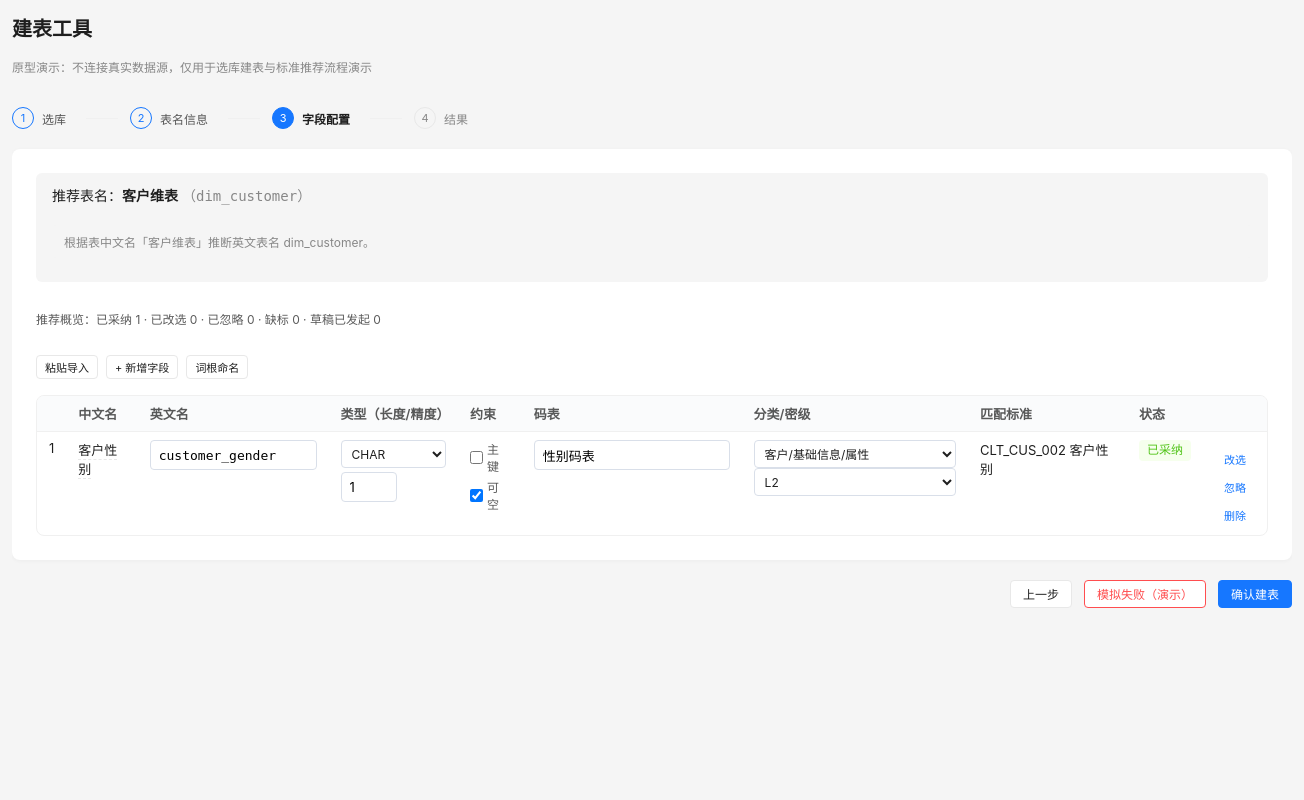
Test: TableBuilderPage step 3 recommend confirmation › clears standard-derived attributes when ignoring a matched field
The width and height of the screenshot is (1304, 800).
Expected: the field showing "性别码表" is shown, [534,440,730,470]
Expected: the dropdown showing "CHAR" is shown, [341,440,446,468]
Click the button "忽略" at coordinates (1235, 487), box [1215,475,1255,499]
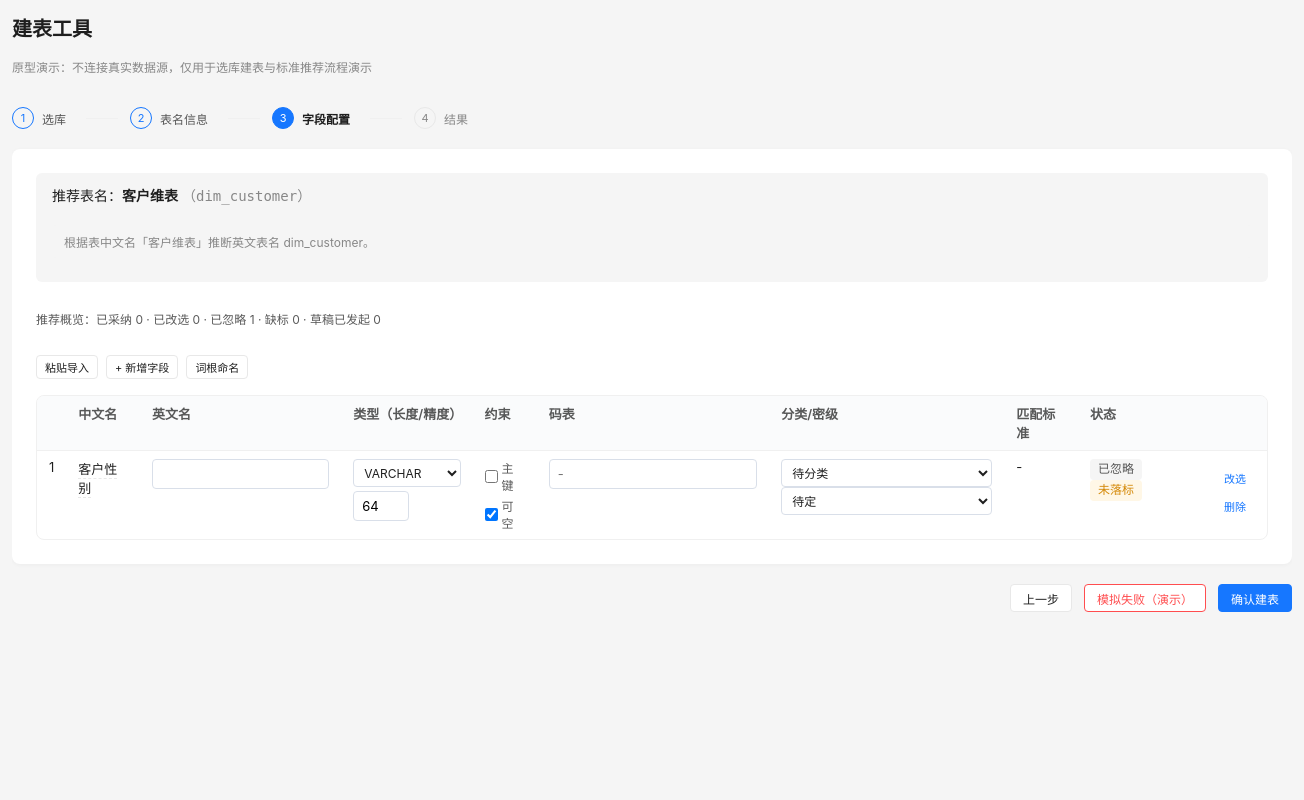
Expected: the text "已忽略" is shown, [1090,459,1142,480]
Expected: the text "未落标" is shown, [1090,480,1142,501]
Expected: the dropdown showing "待分类" is shown, [781,459,992,487]
